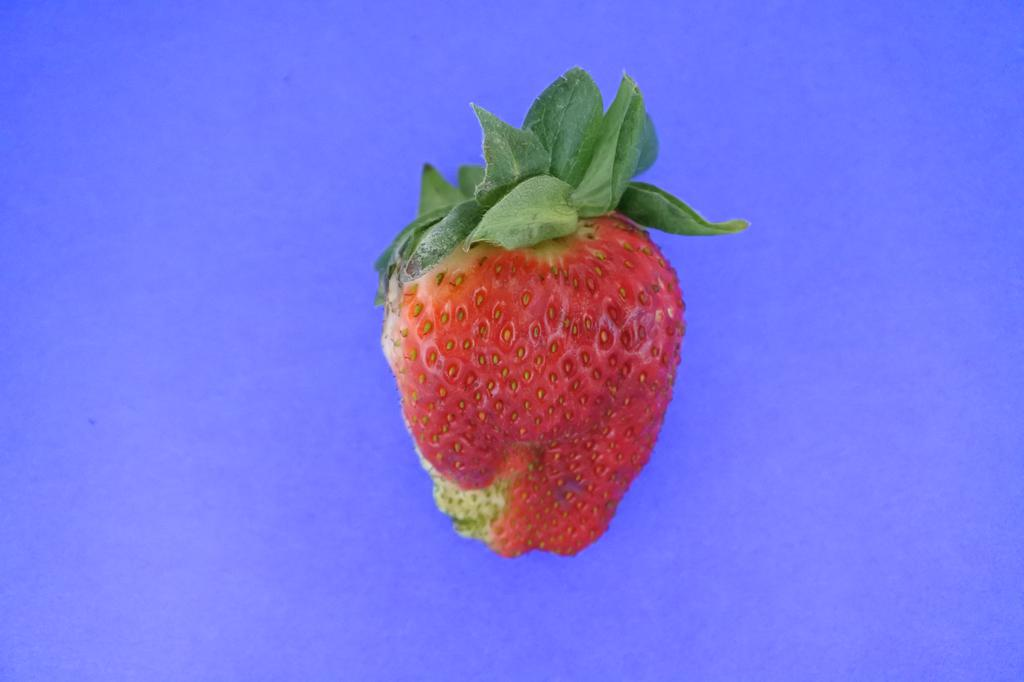red strawberry: (374, 69, 753, 560)
